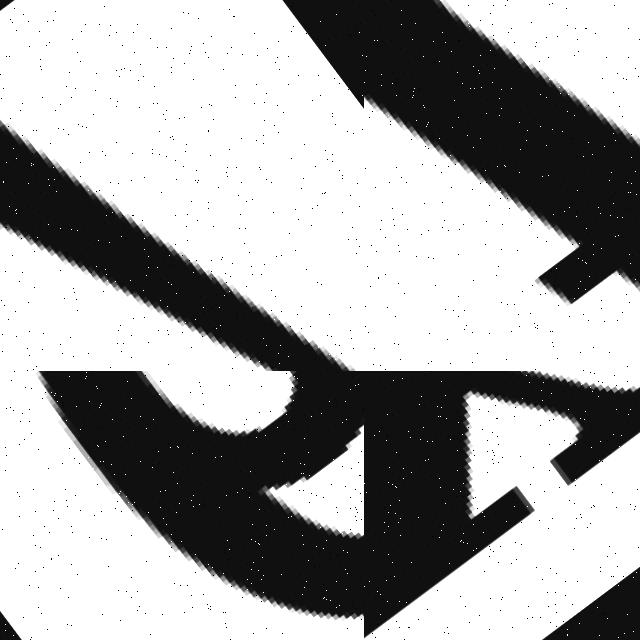6: (0, 371, 364, 640)
7: (0, 11, 364, 371)
T: (364, 0, 640, 371)
X: (364, 371, 640, 640)
